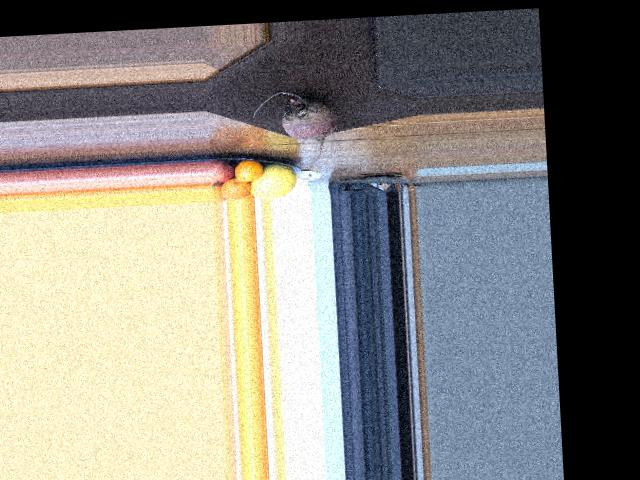beet: (251, 89, 339, 166)
